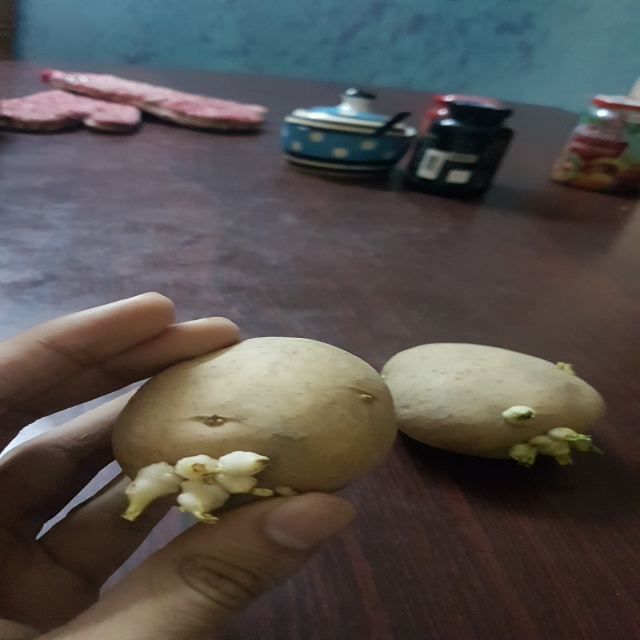potato: (105, 329, 398, 525), (369, 323, 617, 492)
